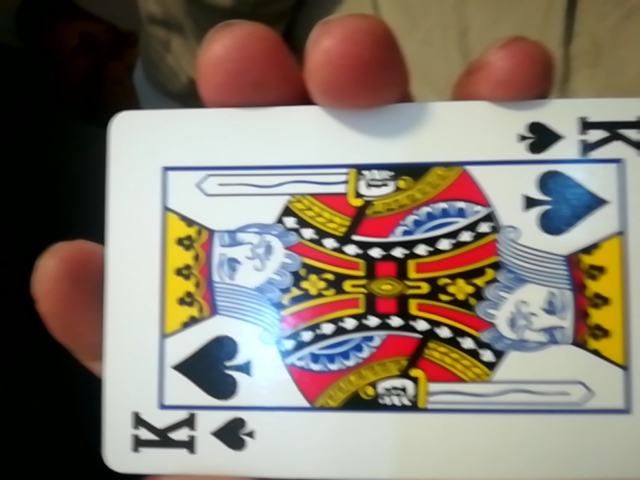ht k: (90, 104, 634, 480)
